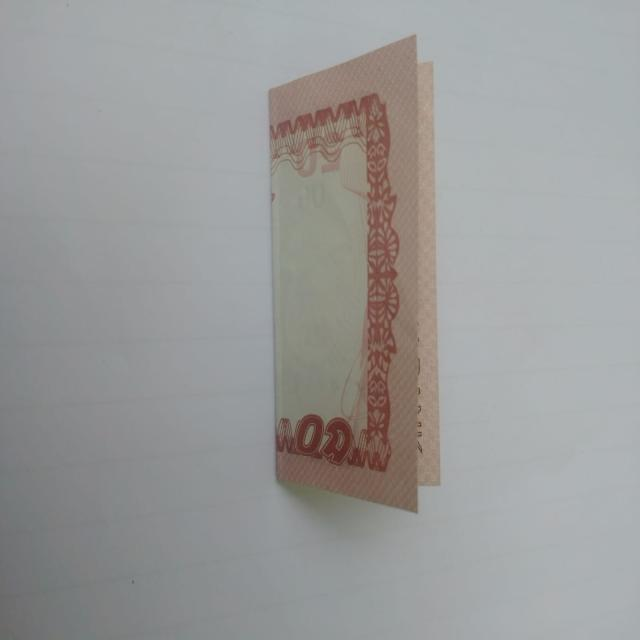Taka: (255, 34, 451, 508)
